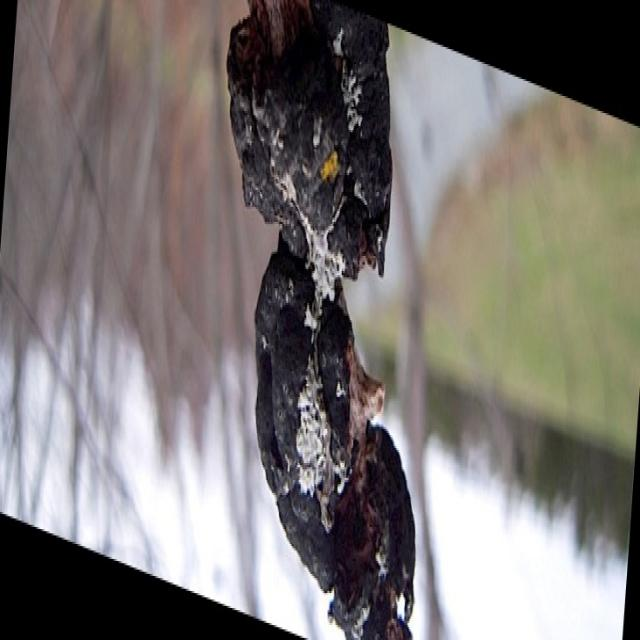Black_knot: (225, 0, 417, 634)
